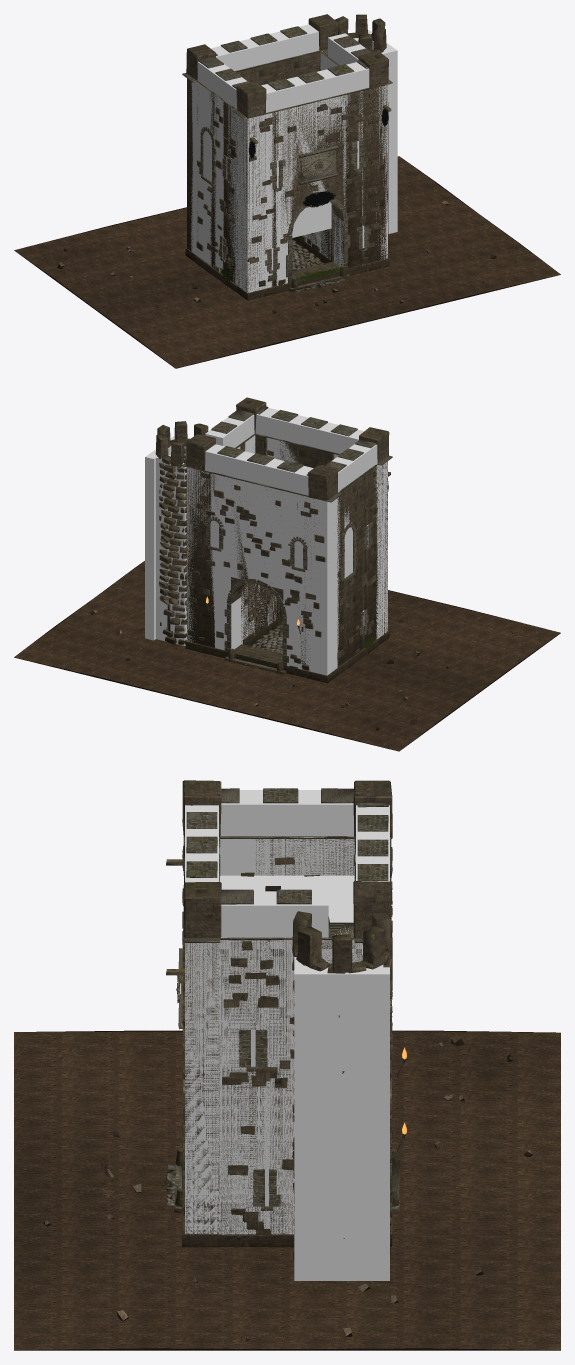
Rendered from bld_gatehouse_south_shared_tex.glb.
3 views of the same model, one above another, from view 1: azimuth 30°, elevation 25°; view 2: azimuth 150°, elevation 25°; view 3: azimuth 270°, elevation 25° (orthographic). The views are drawn at different scales.
Visible parts, largest first — view 1: ground_mud, lite_merge_02, col_wall_S_W, lite_merge_03, lite_merge_00, col_wall_W, lite_merge_01, col_merlons_S, col_wall_S_top, col_merlons_N, col_wall_S_E, col_turret_E (+7 smaller); view 2: ground_mud, lite_merge_03, col_wall_N_W, lite_merge_01, col_wall_N_top, col_wall_N_E, wall_N_stones, lite_merge_02, lite_merge_00, col_turret_N, col_merlons_N, col_merlons_S (+9 smaller); view 3: ground_mud, col_turret_E, col_wall_E, lite_merge_03, lite_merge_02, col_wall_S_E, lite_merge_00, col_merlons_W, col_wall_W, col_merlons_E, col_roof_deck, lite_merge_06 (+3 smaller).
Part boxes in pixels (x1,y1,x2,y2): ground_mud: [14, 156, 560, 368]; lite_merge_02: [237, 52, 391, 300]; col_wall_S_W: [237, 108, 291, 292]; lite_merge_03: [57, 14, 496, 348]; lite_merge_00: [182, 26, 392, 291]; col_wall_W: [197, 82, 237, 285]; lite_merge_01: [195, 86, 334, 292]; col_merlons_S: [261, 62, 369, 112]; col_wall_S_top: [291, 95, 343, 206]; col_merlons_N: [210, 24, 319, 71]; col_wall_S_E: [334, 84, 387, 266]; col_turret_E: [368, 30, 397, 233]; ground_mud: [14, 561, 560, 751]; lite_merge_03: [90, 397, 514, 730]; col_wall_N_W: [283, 491, 337, 675]; lite_merge_01: [337, 466, 379, 675]; col_wall_N_top: [231, 478, 283, 589]; col_wall_N_E: [187, 467, 240, 650]; wall_N_stones: [185, 472, 338, 683]; lite_merge_02: [228, 435, 390, 673]; lite_merge_00: [182, 406, 392, 674]; col_turret_N: [150, 453, 186, 645]; col_merlons_N: [205, 444, 313, 495]; col_merlons_S: [255, 408, 364, 453]; ground_mud: [14, 1030, 560, 1350]; col_turret_E: [294, 967, 389, 1280]; col_wall_E: [219, 940, 355, 1234]; lite_merge_03: [43, 780, 532, 1341]; lite_merge_02: [166, 846, 399, 1247]; col_wall_S_E: [185, 943, 218, 1233]; lite_merge_00: [174, 788, 400, 1212]; col_merlons_W: [220, 790, 353, 836]; col_wall_W: [220, 839, 354, 875]; col_merlons_E: [221, 891, 328, 937]; col_roof_deck: [220, 875, 354, 922]; lite_merge_06: [239, 917, 392, 1210].
Bounding box in the file's own units: 22 × 11.46 × 16.
Materials: 14 (12 with a texture image).
